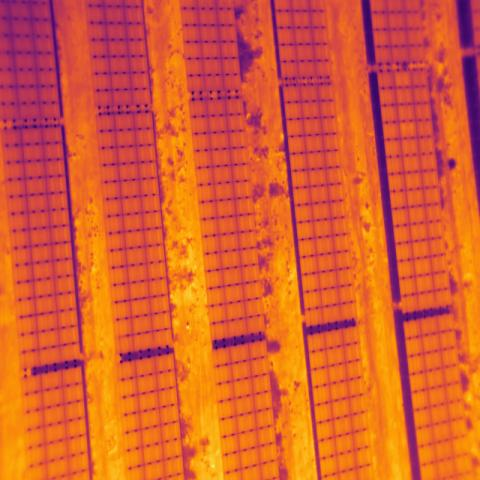fault: (400, 120, 418, 139)
